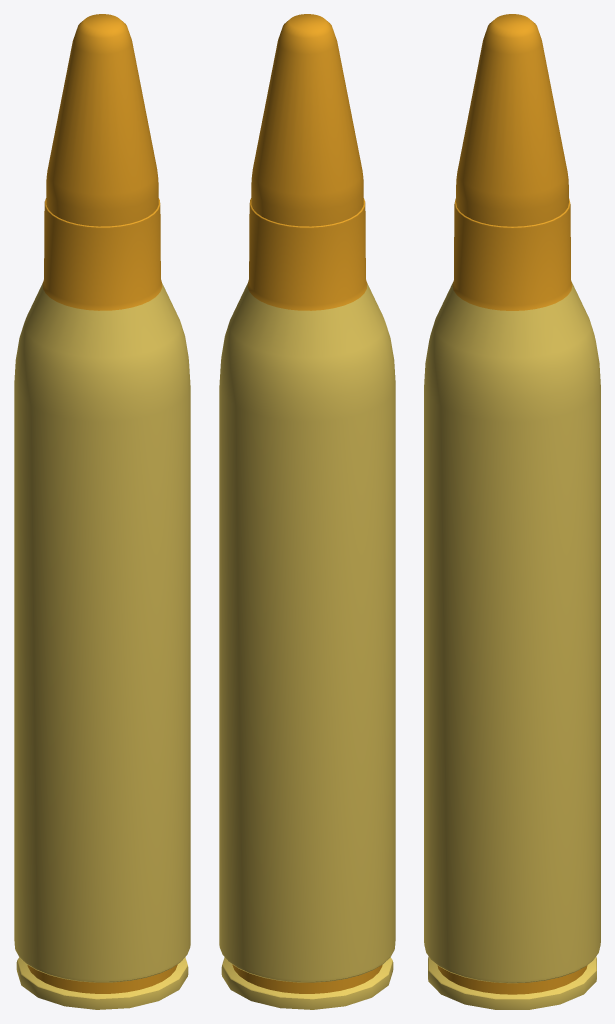
File: Bullet_02a.fbx
3 views of the same model, side by side, from view 1: azimuth 30°, elevation 25°; view 2: azimuth 150°, elevation 25°; view 3: azimuth 270°, elevation 25° (orthographic).
Parts seen in each view (by area): view 1: Bullet_02a; view 2: Bullet_02a; view 3: Bullet_02a.
Part boxes in pixels (bbox=[...]): Bullet_02a: bbox=[14, 14, 190, 1009]; Bullet_02a: bbox=[219, 14, 395, 1009]; Bullet_02a: bbox=[424, 14, 600, 1009].
Size of the model in its own units: 3.7 by 22.09 by 3.7.
